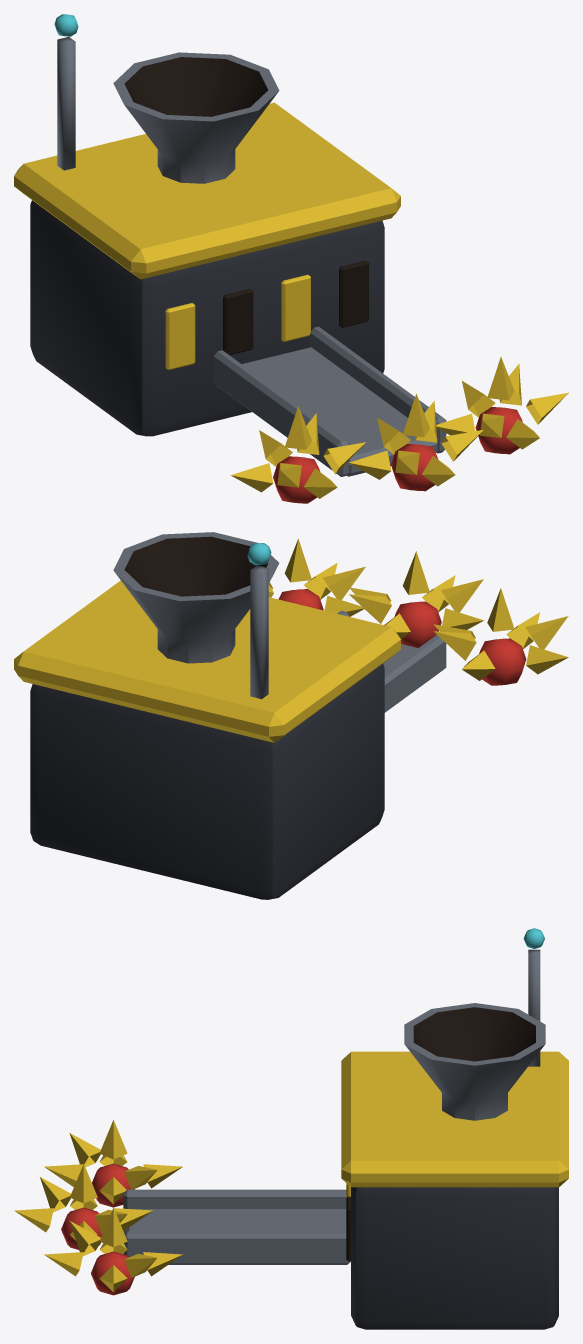
3 renders of one model, top to bottom at view 1: azimuth 30°, elevation 25°; view 2: azimuth 150°, elevation 25°; view 3: azimuth 270°, elevation 25°, orthographic. The views are drawn at different scales.
Visible parts, largest first — view 1: espinhos_0_base, espinhos_1_torreta; view 2: espinhos_0_base, espinhos_1_torreta; view 3: espinhos_0_base, espinhos_1_torreta.
Part boxes in pixels (box(x1,y1,x2,y2)): espinhos_0_base: box(14, 14, 568, 503); espinhos_1_torreta: box(213, 326, 446, 476); espinhos_0_base: box(14, 532, 568, 899); espinhos_1_torreta: box(337, 610, 446, 712); espinhos_0_base: box(14, 928, 568, 1329); espinhos_1_torreta: box(123, 1189, 350, 1264).
Bounding box in the file's own units: 0.7021 × 0.6918 × 1.12.
